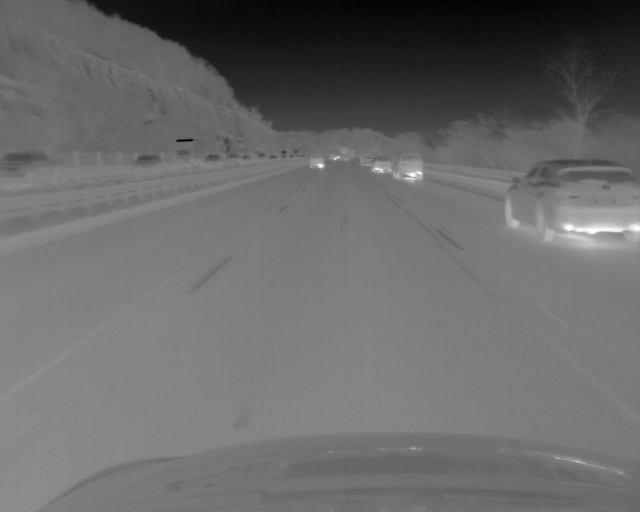car: (501, 159, 639, 245), (1, 149, 74, 174), (392, 153, 424, 180), (371, 156, 392, 173), (134, 154, 161, 167), (309, 153, 324, 168), (205, 154, 221, 162), (242, 154, 250, 160)
